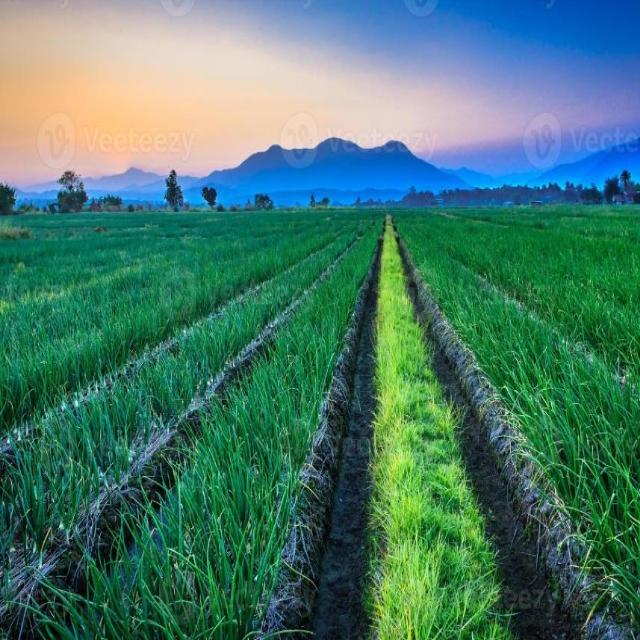row: (399, 249, 612, 640), (264, 245, 380, 640)
